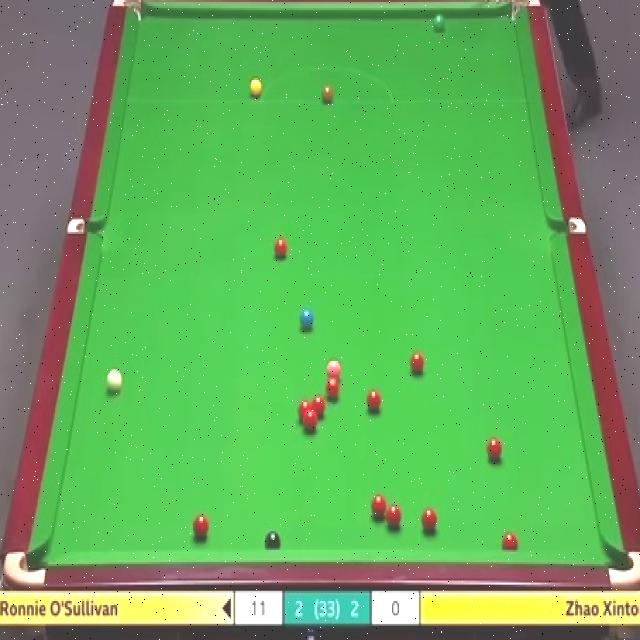black-ball: (264, 528, 282, 551)
blue-ball: (298, 308, 314, 333)
brown-ball: (319, 82, 334, 106)
green-ball: (431, 13, 447, 33)
pink-ball: (326, 356, 342, 383)
red-ball: (385, 502, 403, 533), (408, 350, 426, 379), (420, 508, 437, 535), (371, 493, 387, 520), (485, 436, 501, 462), (366, 388, 381, 414), (194, 513, 209, 539), (273, 237, 289, 260), (325, 378, 340, 402), (312, 396, 326, 421), (502, 531, 519, 551), (298, 400, 312, 420), (304, 412, 317, 433)
white-ball: (104, 368, 122, 395)
yellow-ball: (247, 77, 262, 97)
